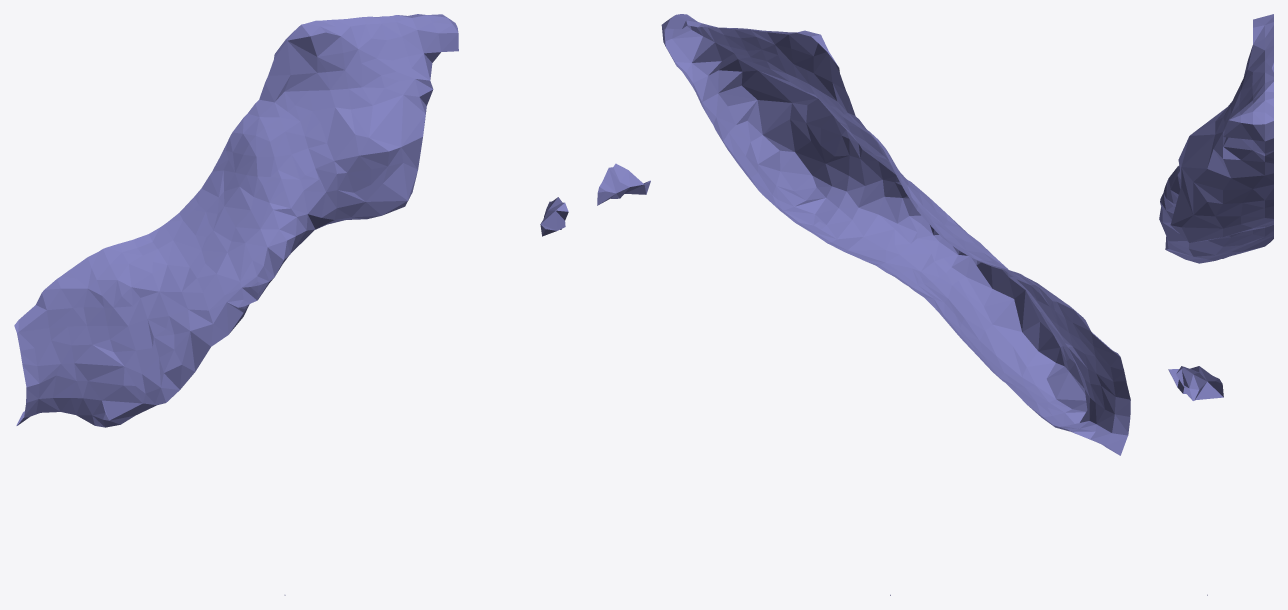
The model's file is tsTest.dae.
3 renders of one model, left to right at view 1: azimuth 30°, elevation 25°; view 2: azimuth 150°, elevation 25°; view 3: azimuth 270°, elevation 25°, orthographic. The views are drawn at different scales.
Parts seen in each view (by area): view 1: node0; view 2: node0; view 3: node0.
Part boxes in pixels (<box>): node0: <box>14,14,568,595</box>; node0: <box>597,14,1130,595</box>; node0: <box>1159,14,1273,595</box>.
Size of the model in its own units: 168000 by 168829 by 28892.
